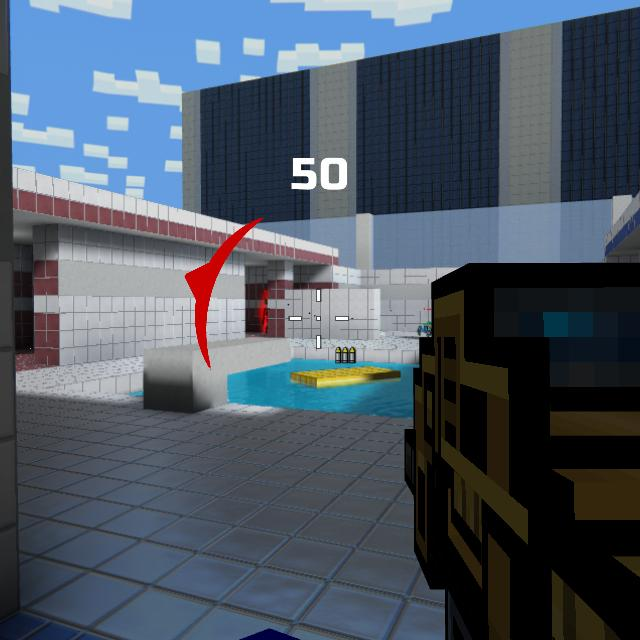Enemy: (264, 296, 270, 329)
